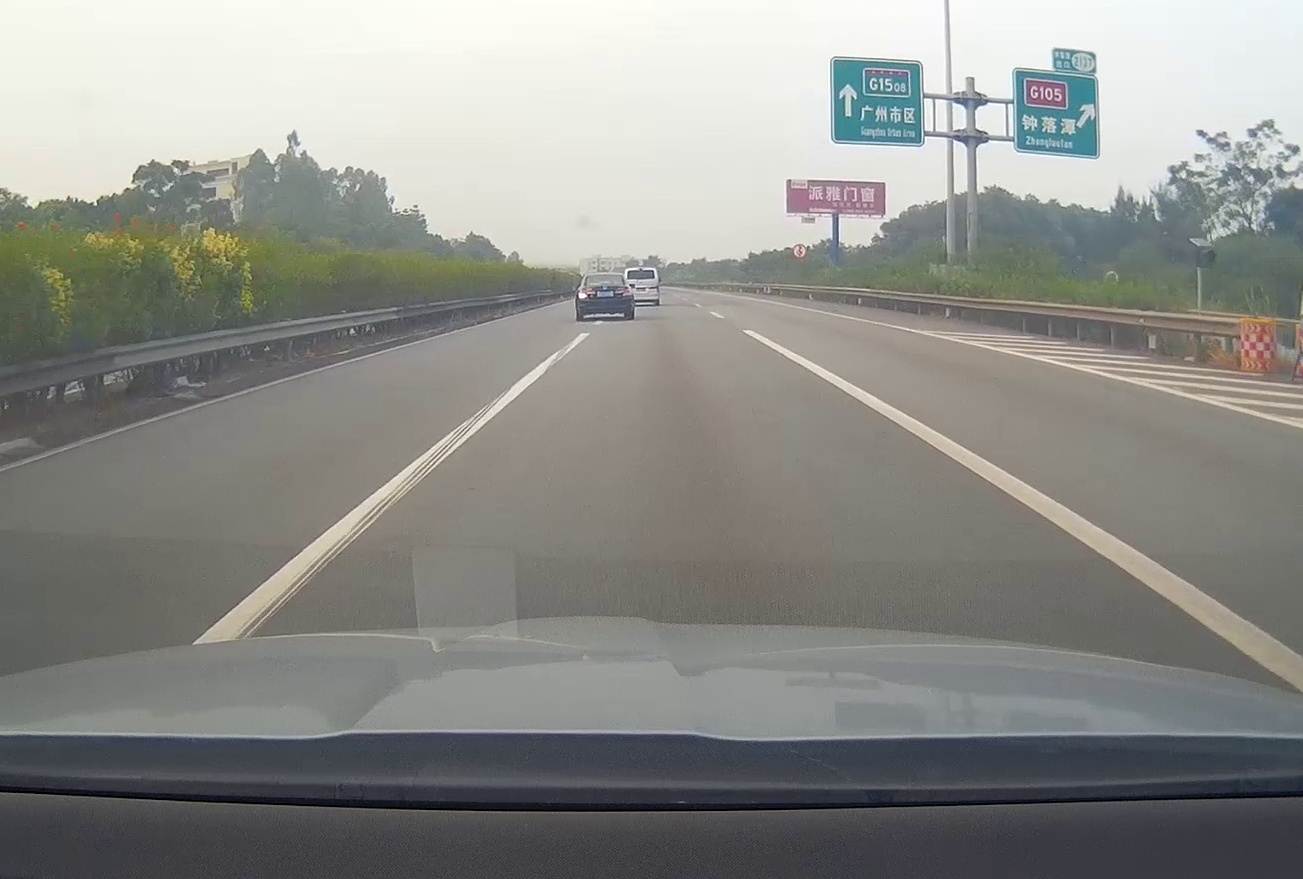L_light: (577, 289, 596, 300)
R_light: (614, 287, 632, 297)
T_light: (601, 274, 610, 277)
day-left: (575, 273, 635, 321)
